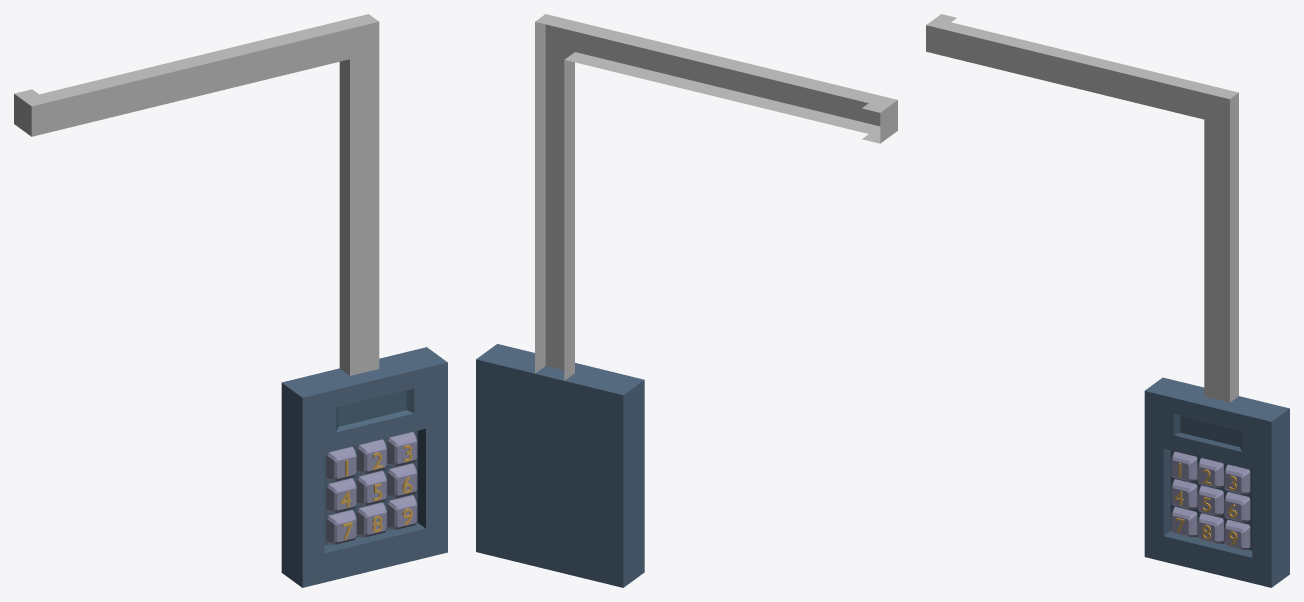
Rendered from wall-keypad.fbx.
3 views of the same model, side by side, from view 1: azimuth 30°, elevation 25°; view 2: azimuth 150°, elevation 25°; view 3: azimuth 330°, elevation 25° (orthographic). The views are drawn at different scales.
Parts seen in each view (by area): view 1: wall-keypad-static, key7, key4, key6, key9, key3, key1, key5, key8, key2; view 2: wall-keypad-static; view 3: wall-keypad-static, key4, key6, key7, key8, key9, key1, key3, key5, key2.
Boxes of the visible parts, <box> form: wall-keypad-static: <box>14,14,447,587</box>; key7: <box>326,510,356,544</box>; key4: <box>326,478,356,512</box>; key6: <box>387,463,417,498</box>; key9: <box>387,495,417,529</box>; key3: <box>387,432,417,466</box>; key1: <box>326,446,356,481</box>; key5: <box>357,470,386,505</box>; key8: <box>357,502,386,537</box>; key2: <box>357,439,386,473</box>; wall-keypad-static: <box>476,14,897,587</box>; wall-keypad-static: <box>926,14,1289,587</box>; key4: <box>1171,479,1197,509</box>; key6: <box>1224,492,1250,522</box>; key7: <box>1171,506,1197,537</box>; key8: <box>1197,513,1223,543</box>; key9: <box>1224,519,1250,549</box>; key1: <box>1171,451,1197,481</box>; key3: <box>1224,464,1250,494</box>; key5: <box>1197,485,1223,515</box>; key2: <box>1197,458,1223,488</box>.
Bounding box in the file's own units: 0.67 × 0.0868 × 0.848.
1 material, 1 textured.
